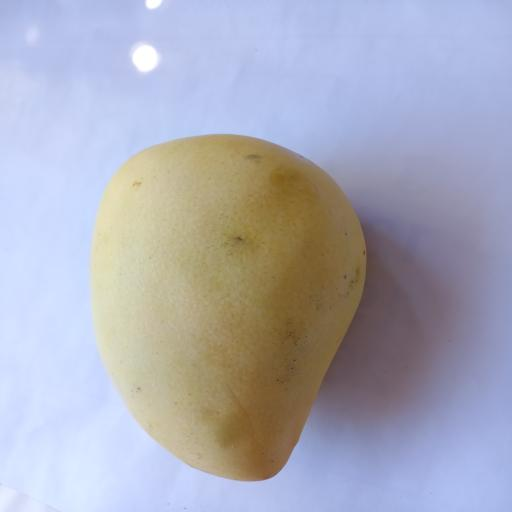mango-ripe: (67, 98, 391, 501)
